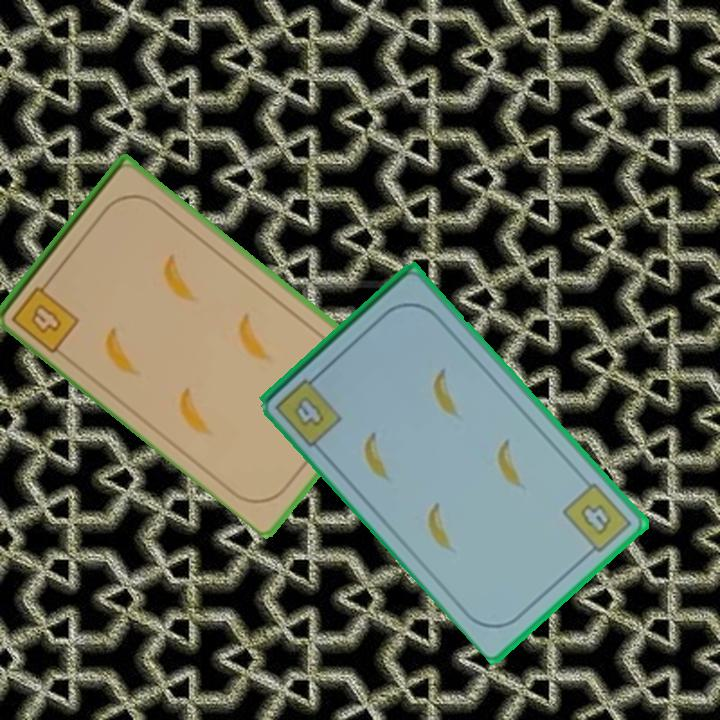4b: (559, 478, 635, 560), (8, 273, 83, 356), (271, 368, 345, 450)
